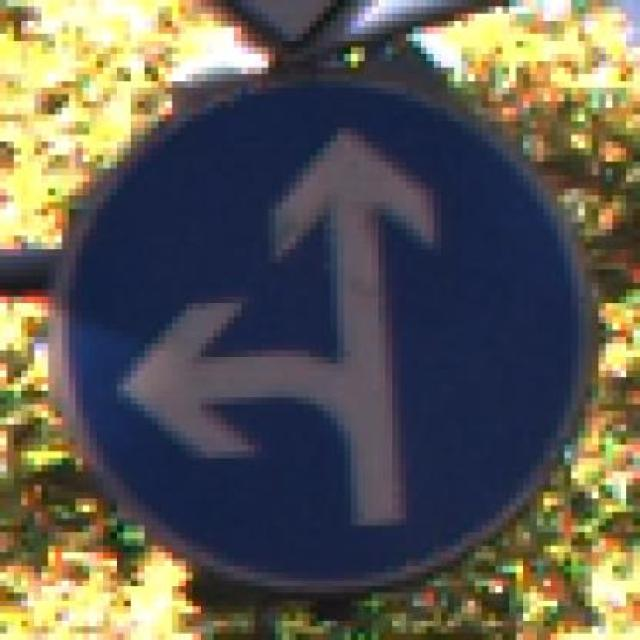Go straight or turn left: (41, 68, 599, 600)
